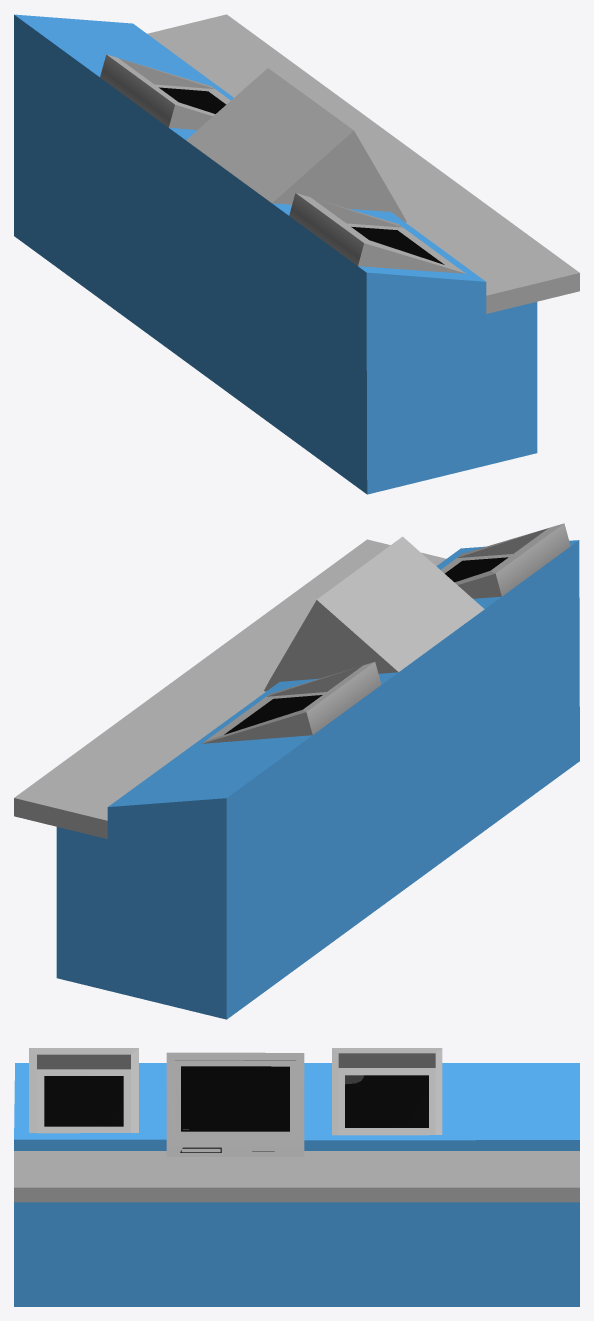
File: B_ComputerConsole.fbx
3 views of the same model, one above another, from view 1: azimuth 30°, elevation 25°; view 2: azimuth 150°, elevation 25°; view 3: azimuth 270°, elevation 25° (orthographic). The views are drawn at different scales.
Parts seen in each view (by area): view 1: B_ComputerConsole; view 2: B_ComputerConsole; view 3: B_ComputerConsole.
Part boxes in pixels (x1,y1,x2,y2): B_ComputerConsole: (14,14,579,494); B_ComputerConsole: (14,523,579,1019); B_ComputerConsole: (14,1048,579,1306).
Bounding box in the file's own units: 4.54 × 5.59 × 13.04.
Materials: 3 (3 with a texture image).
